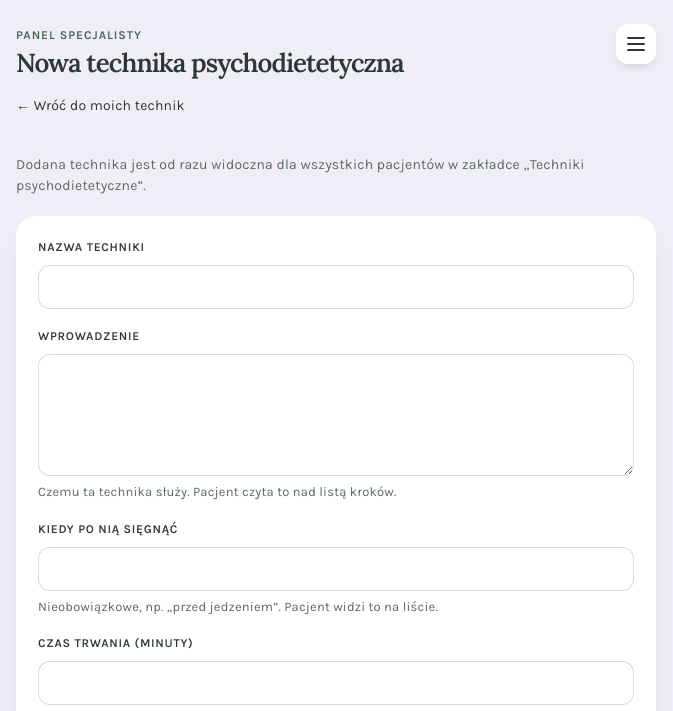
Test: the form › derives the slug from the name and sends the diet shape
The image size is (673, 711).
Type "Uważne zakupy" into the field labelled "Nazwa techniki".
click(336, 287); type("Uważne zakupy")  # box [38,265,634,309]
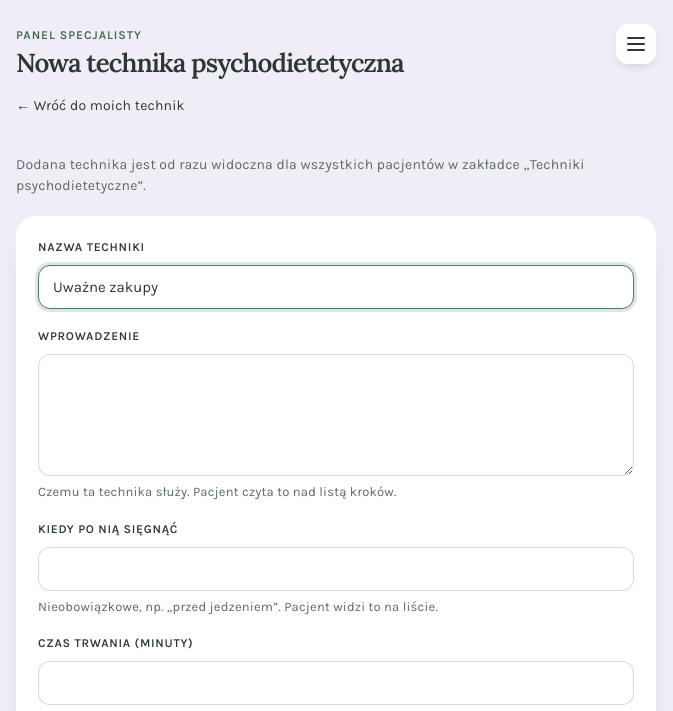
Type "O czym jest." into the text box labelled "Wprowadzenie".
click(336, 415); type("O czym jest.")  # box [38,354,634,476]
(page scrolled)
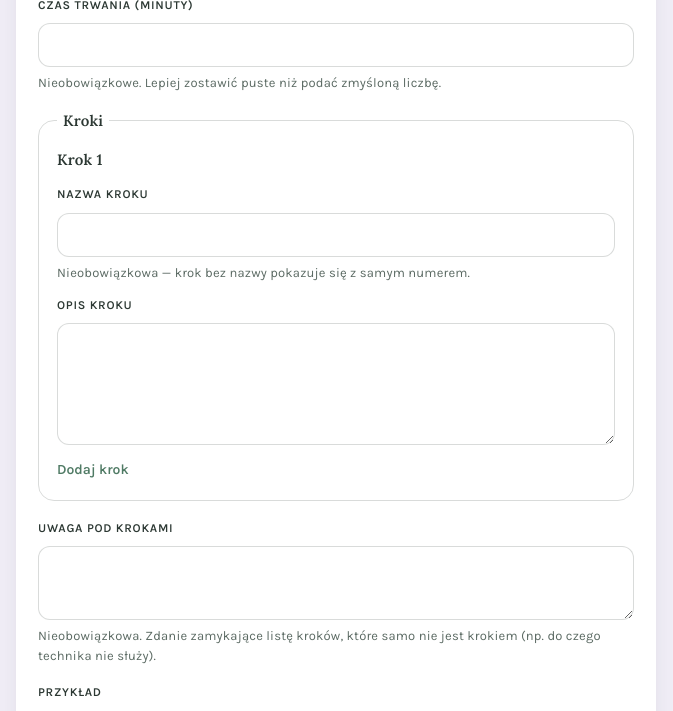
Type "Zrób listę." into the text box labelled "Opis kroku".
click(336, 384); type("Zrób listę.")  # box [57,323,615,445]
(page scrolled)
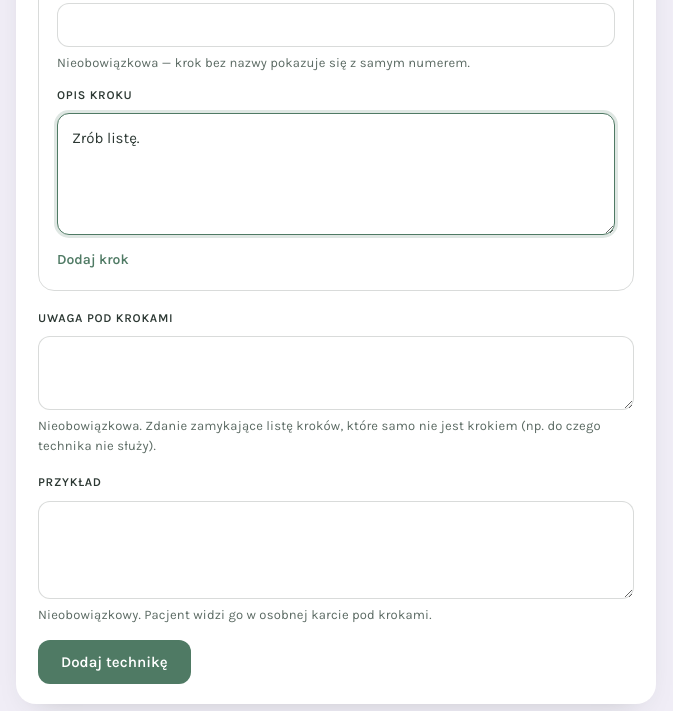
Type "Lista na lodówce." into the text box labelled "Przykład".
click(336, 550); type("Lista na lodówce.")  # box [38,501,634,599]
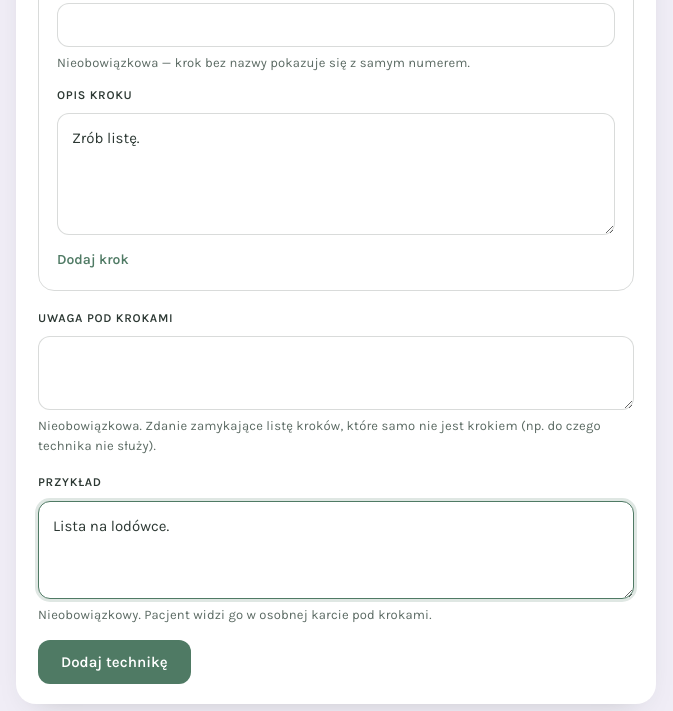
Click the button "Dodaj technikę".
click(114, 662)  # box [38,640,191,684]
(page scrolled)
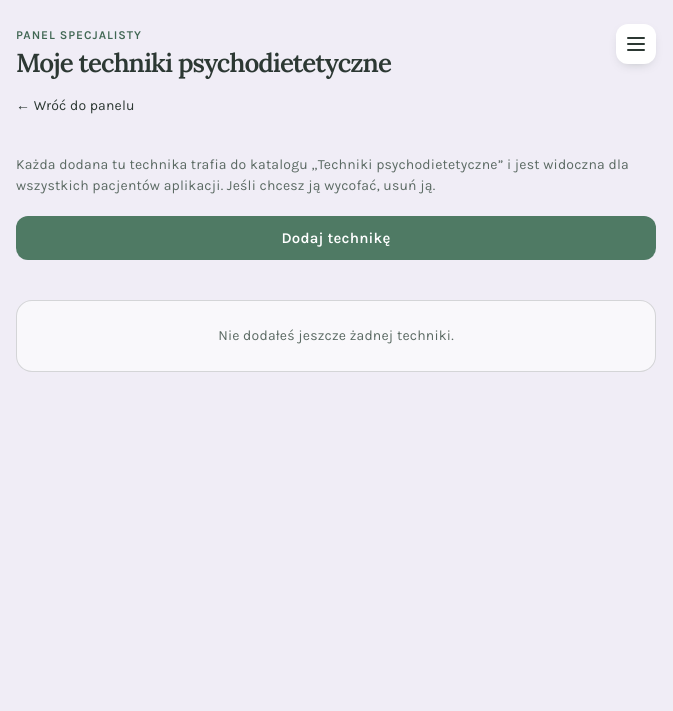
Now the heading "Moje techniki psychodietetyczne" is shown, box [16,51,391,74]
